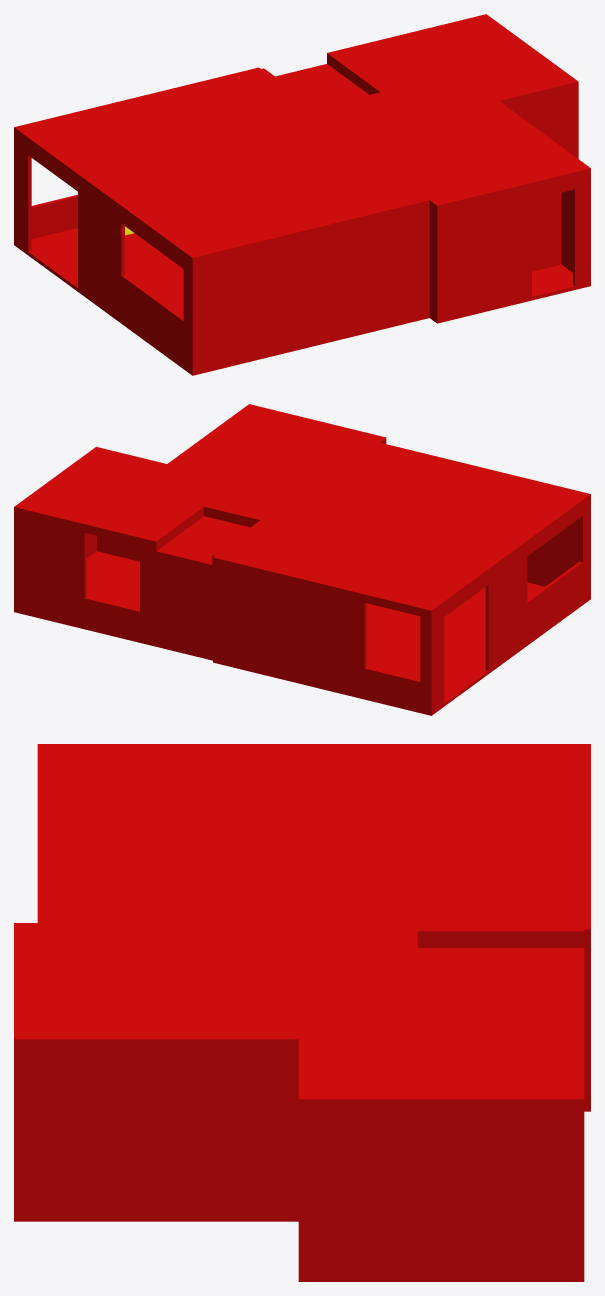
Rendered from val_house_04_grp.fbx.
3 views of the same model, one above another, from view 1: azimuth 30°, elevation 25°; view 2: azimuth 150°, elevation 25°; view 3: azimuth 270°, elevation 25° (orthographic). The views are drawn at different scales.
Visible parts, largest first — view 1: val_house_04_ceiling, val_house_04_walls, val_house_04_floor; view 2: val_house_04_ceiling, val_house_04_walls, val_house_04_floor; view 3: val_house_04_ceiling, val_house_04_walls, val_house_04_floor.
Part boxes in pixels (bbox=[...]): val_house_04_ceiling: bbox=[14, 14, 590, 261]; val_house_04_walls: bbox=[14, 85, 590, 372]; val_house_04_floor: bbox=[14, 226, 590, 375]; val_house_04_ceiling: bbox=[14, 404, 590, 613]; val_house_04_walls: bbox=[14, 441, 590, 712]; val_house_04_floor: bbox=[14, 551, 590, 715]; val_house_04_ceiling: bbox=[14, 744, 590, 1105]; val_house_04_walls: bbox=[14, 935, 590, 1276]; val_house_04_floor: bbox=[14, 1106, 590, 1281].
Bounding box in the file's own units: 1041 × 249 × 714.
